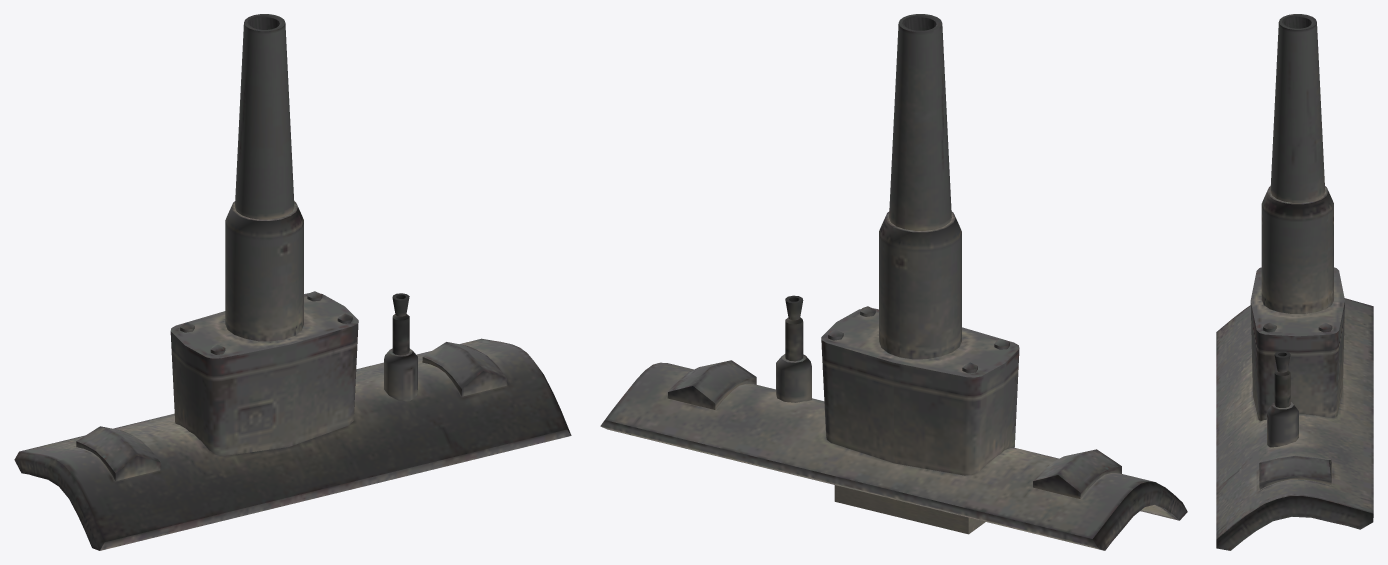
Rendered from Gun_10.glb.
3 renders of one model, left to right at view 1: azimuth 30°, elevation 25°; view 2: azimuth 150°, elevation 25°; view 3: azimuth 270°, elevation 25°, orthographic. The views are drawn at different scales.
Parts seen in each view (by area): view 1: set_0_group_0; view 2: set_0_group_0; view 3: set_0_group_0.
Part boxes in pixels (<box>): set_0_group_0: <box>14,14,571,550</box>; set_0_group_0: <box>600,14,1187,550</box>; set_0_group_0: <box>1216,14,1373,550</box>.
Bounding box in the file's own units: 1.34 × 1.23 × 0.4194.
Materials: 1 (1 with a texture image).
